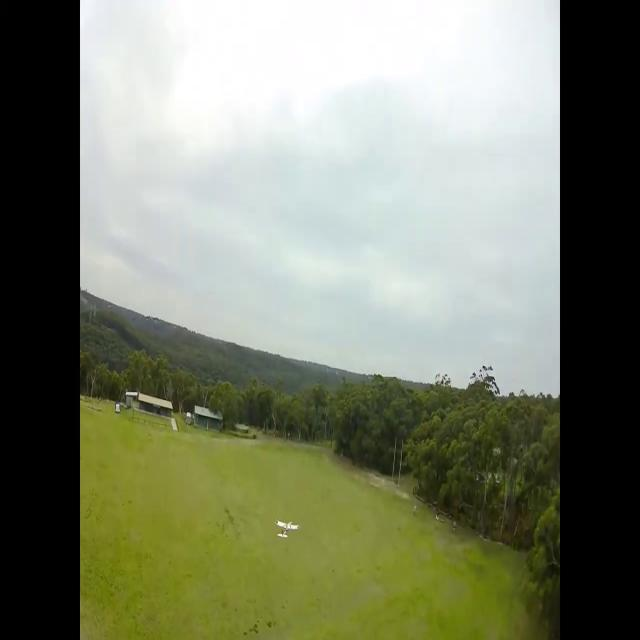iha: (275, 518, 299, 540)
